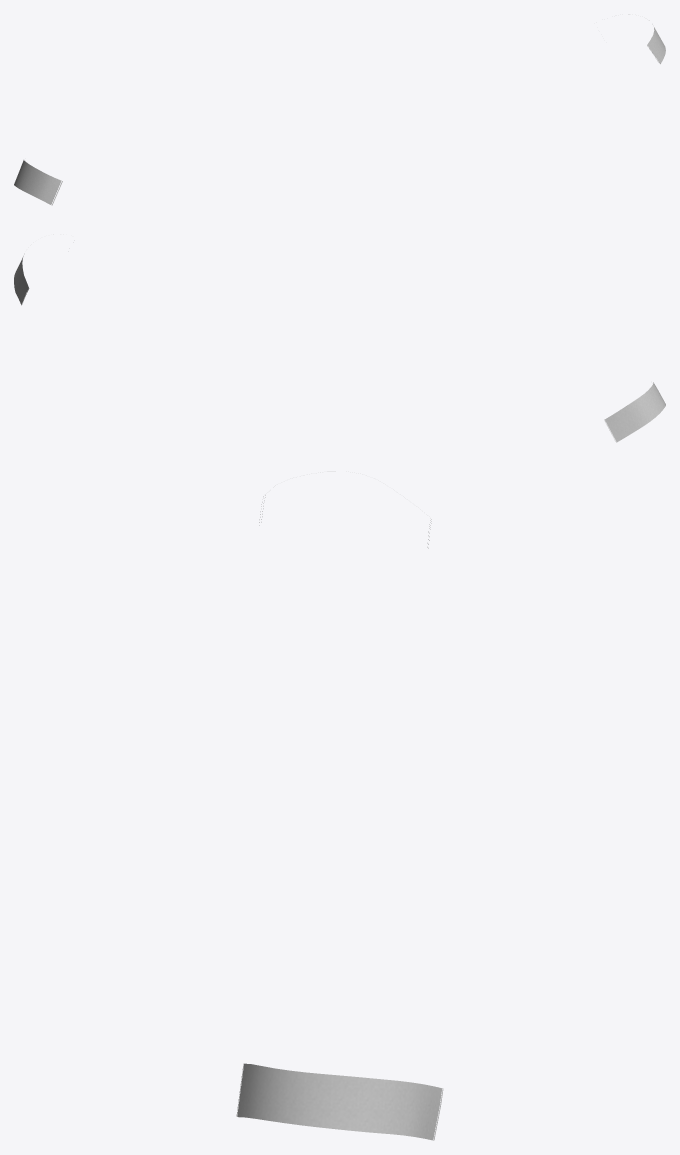
Rendered from COP_Arm_Down.glb.
3 views of the same model, one above another, from view 1: azimuth 30°, elevation 25°; view 2: azimuth 150°, elevation 25°; view 3: azimuth 270°, elevation 25° (orthographic). The views are drawn at different scales.
Parts seen in each view (by area): view 1: COP_Arm_Down1; view 2: COP_Arm_Down1; view 3: COP_Arm_Down1.
Part boxes in pixels (x1,y1,x2,y2): COP_Arm_Down1: (14, 14, 665, 205); COP_Arm_Down1: (14, 234, 665, 442); COP_Arm_Down1: (236, 471, 443, 1140).
Bounding box in the file's own units: 1.62 × 0.103 × 0.2284.
1 material, 1 textured.
